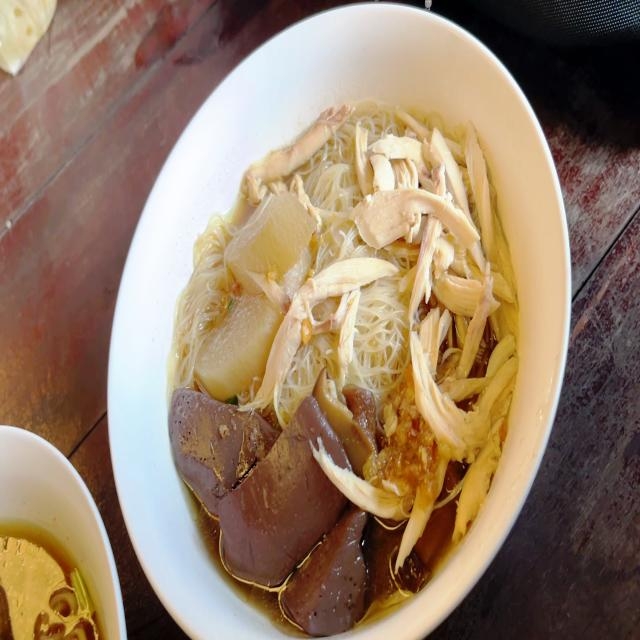boiled_chicken_blood_jelly: (171, 406, 367, 618)
chicken_shredded: (387, 132, 512, 480)
daikon_radish: (222, 198, 318, 280), (200, 302, 276, 392)
noodle: (148, 94, 508, 621), (0, 517, 106, 640)
